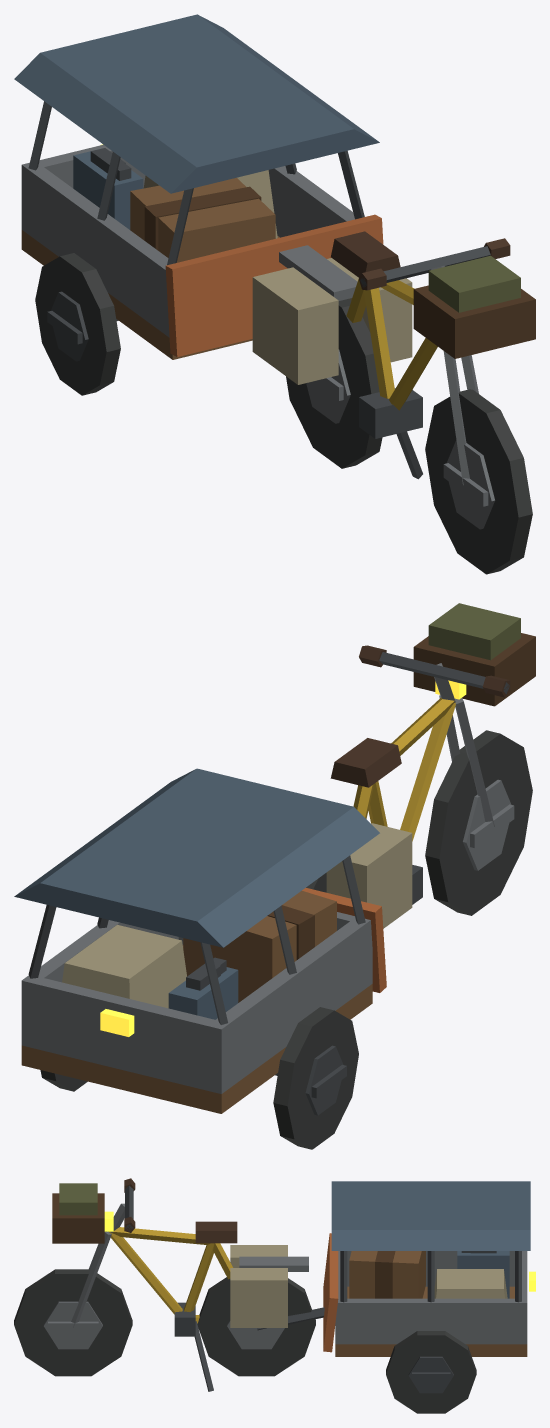
File: vehicle_bicycle_cart_l3.glb
The picture shows the model from 3 angles, top to bottom: view 1: azimuth 30°, elevation 25°; view 2: azimuth 150°, elevation 25°; view 3: azimuth 270°, elevation 25°; orthographic projection. The views are drawn at different scales.
Visible parts, largest first — view 1: body, wheel_f, wheel_tr, wheel_r; view 2: body, wheel_f, wheel_tr; view 3: body, wheel_f, wheel_r, wheel_tl.
Part boxes in pixels (<box>): body: <box>14,14,535,485</box>; wheel_f: <box>425,389,532,574</box>; wheel_tr: <box>35,253,120,395</box>; wheel_r: <box>286,299,382,468</box>; body: <box>14,603,535,1113</box>; wheel_f: <box>425,730,532,915</box>; wheel_tr: <box>273,1007,358,1149</box>; body: <box>52,1178,535,1391</box>; wheel_f: <box>14,1269,132,1376</box>; wheel_r: <box>197,1277,315,1376</box>; wheel_tl: <box>386,1331,476,1413</box>.
Bounding box in the file's own units: 1.13 × 1.17 × 2.99.
